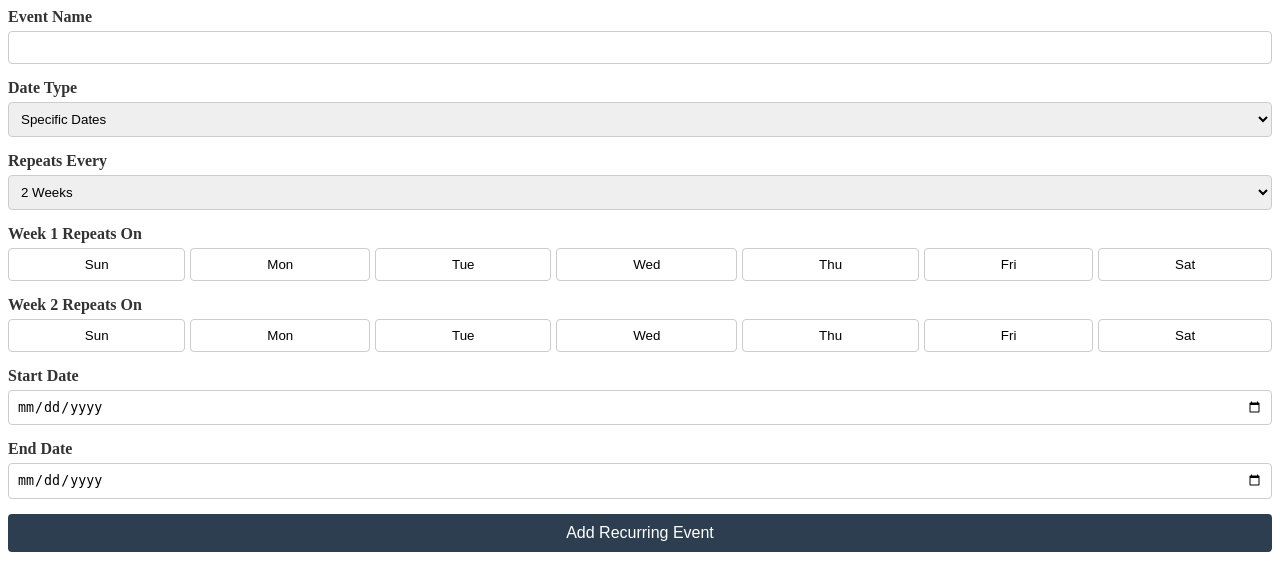
Test case: day-number bounds › clamps a typed day past the cap instead of storing it
Select "Relative to Start Date (Window)" in the dropdown labelled "Date Type" at (640, 120), box 8,102 -> 1272,137
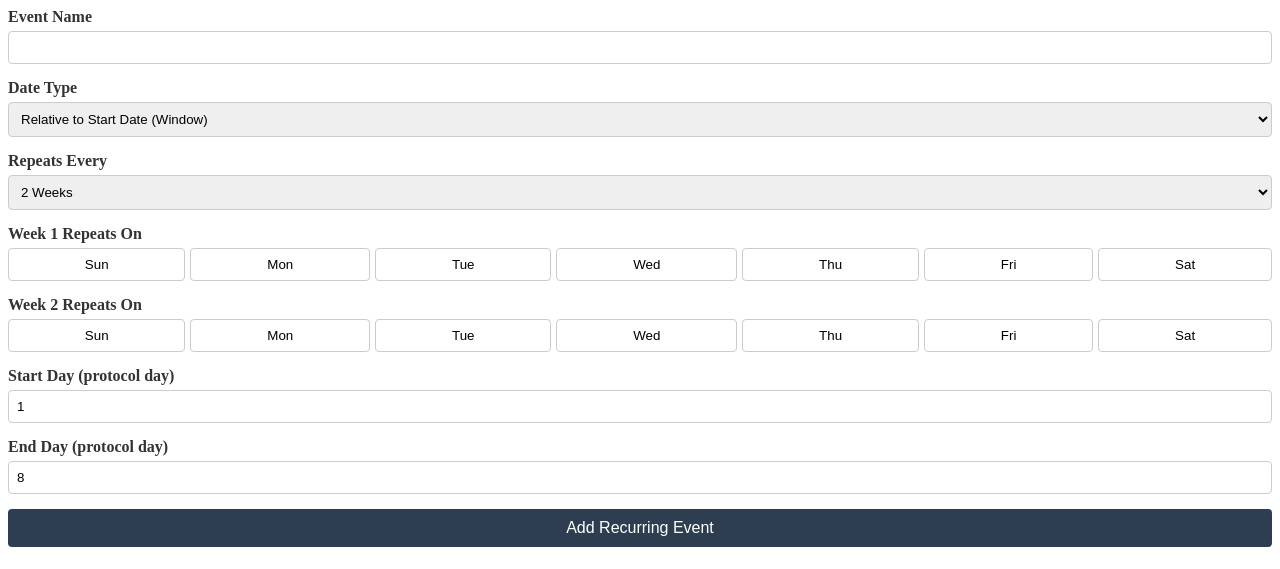
Replace the text in the number field labelled "End Day (protocol day)" with "999999999" at (640, 478), box 8,461 -> 1272,494
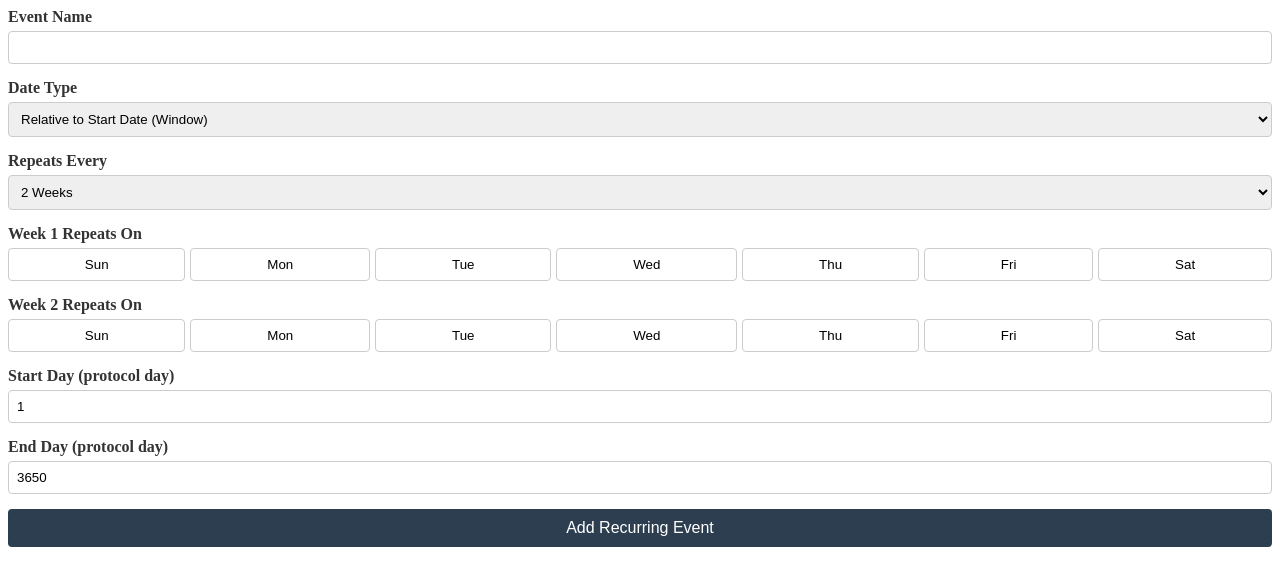
Expected: the number field labelled "End Day (protocol day)" holds "3650", 8,461 -> 1272,494
